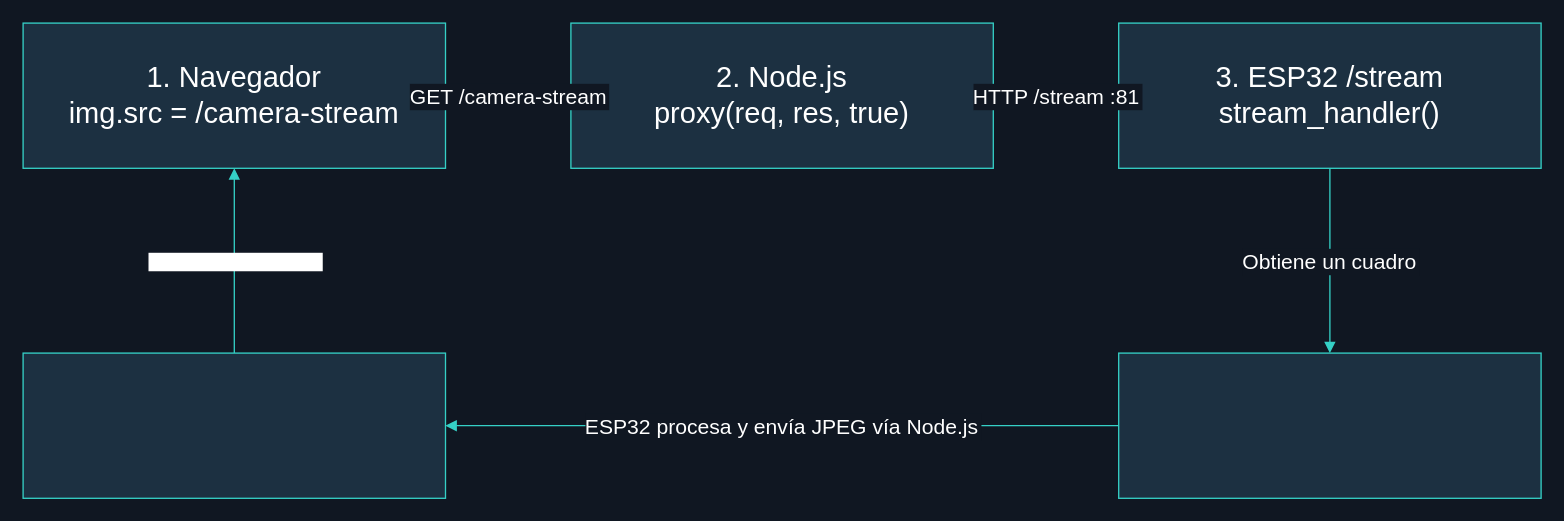
The diagram is 1564 pixels wide and 521 high, and some of its shapes have lost their labels. The shapes that lost their labels are listed below. From the top down, each one's centre as x and y in pixels, then its label:
At pixel 234 425: "5. Node.js devuelve JPEG response.pipe(res)".
At pixel 1329 425: "4. Sensor / framebuffer esp_camera_fb_get()".
